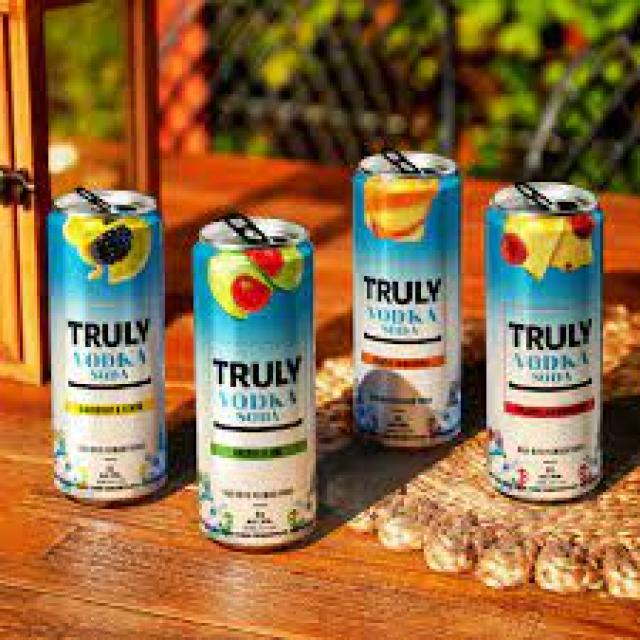Cans: (185, 210, 330, 552), (40, 182, 179, 506), (475, 179, 612, 498), (339, 143, 475, 450)
